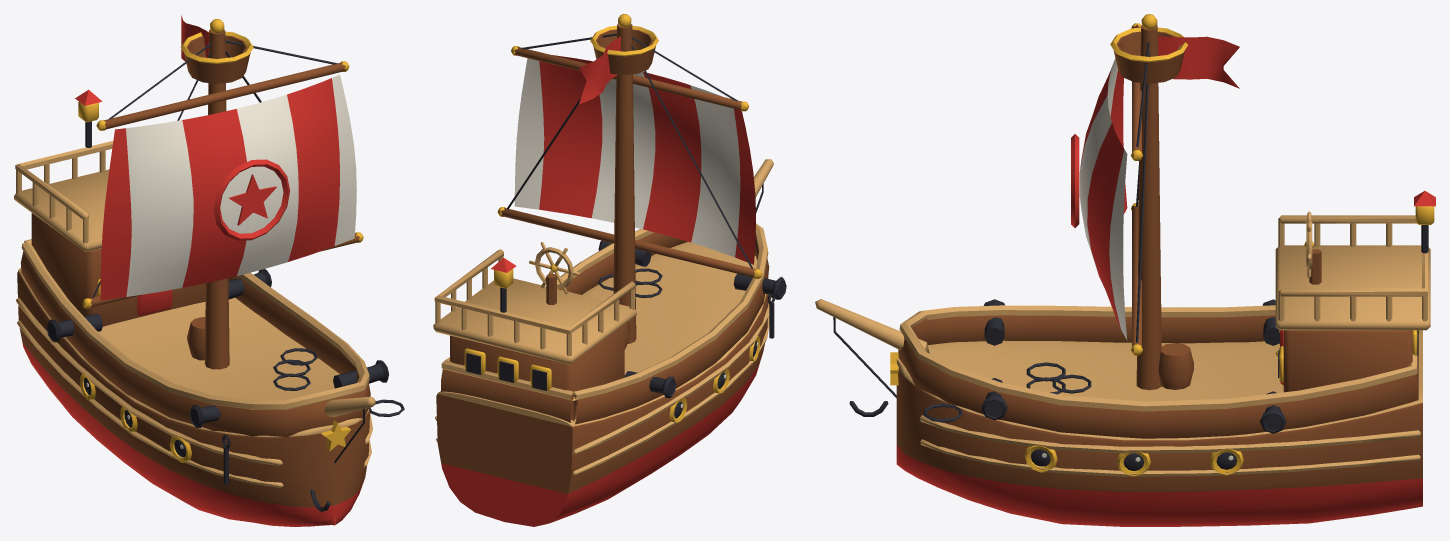
Rendered from ship_water.glb.
The picture shows the model from 3 angles, left to right: view 1: azimuth 30°, elevation 25°; view 2: azimuth 150°, elevation 25°; view 3: azimuth 270°, elevation 25°; orthographic projection. The views are drawn at different scales.
Visible parts, largest first — view 1: body, sail, flag; view 2: body, sail, flag; view 3: body, sail, flag.
Part boxes in pixels (<box>): body: <box>14,89,404,526</box>; sail: <box>82,19,363,369</box>; flag: <box>181,15,208,61</box>; body: <box>433,159,786,526</box>; sail: <box>497,14,762,343</box>; flag: <box>579,36,620,104</box>; body: <box>815,191,1435,526</box>; sail: <box>1071,14,1187,390</box>; flag: <box>1158,36,1239,88</box>.
Size of the model in its own units: 3.34 by 5.23 by 6.02.
